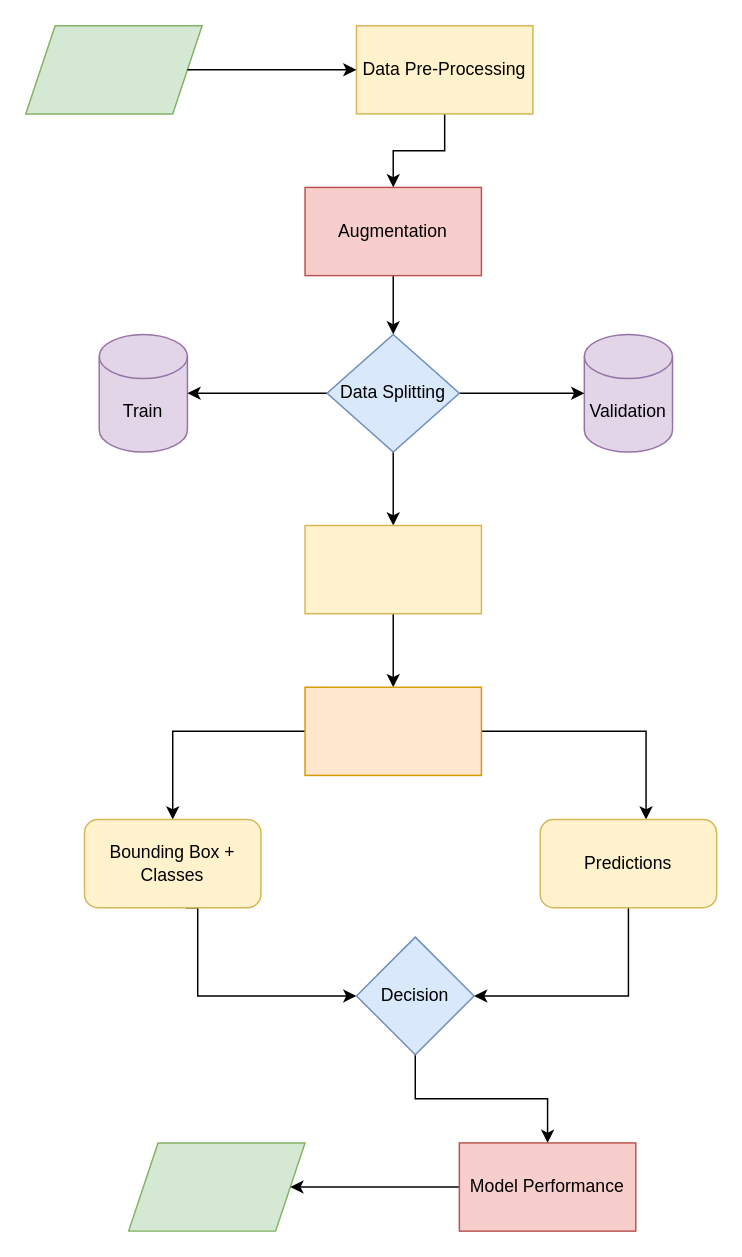
This 742x1257 diagram has some shape labels left out. The shapes that lost their labels are listed below. From the top down, each one's centre as x and y in pixels, then its label:
pixel 113 69: Dataset
pixel 392 569: Data Annotating in Yolo Format
pixel 392 730: Yolo Model Training
pixel 216 1186: Visualization
